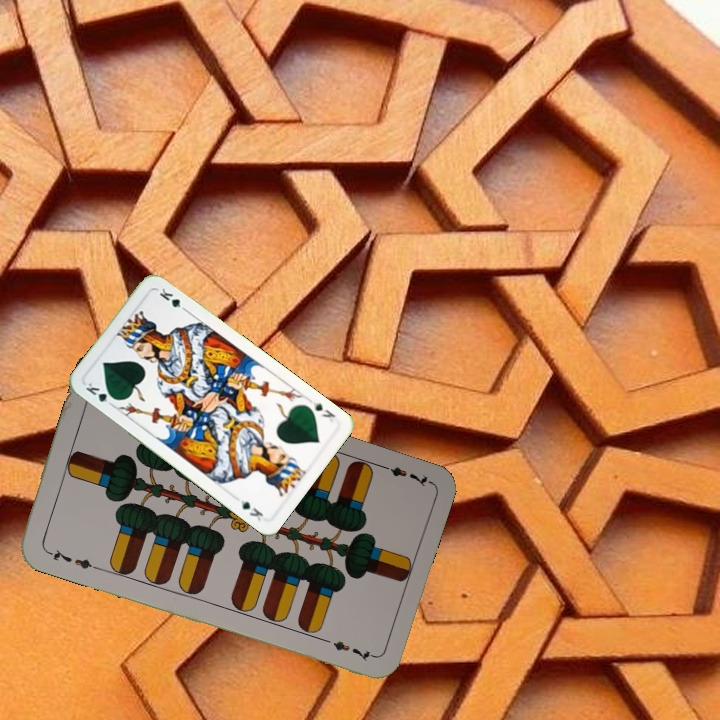E7: (374, 460, 432, 490), (41, 545, 99, 572)
GK: (81, 378, 119, 409), (309, 398, 338, 425)
